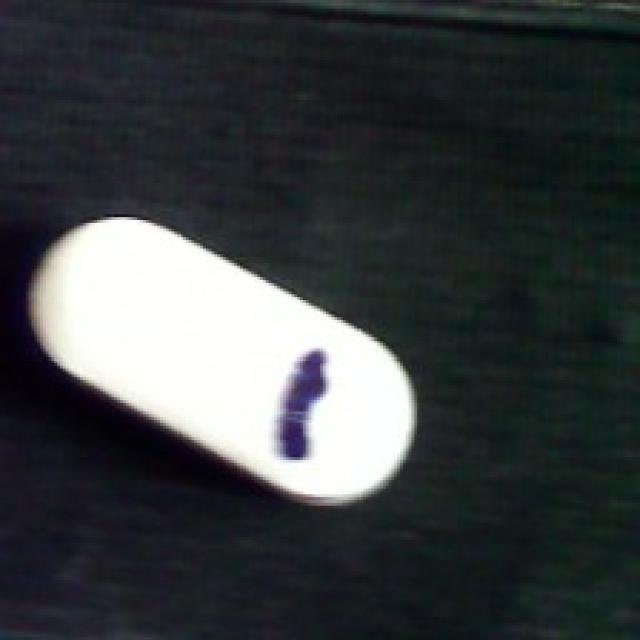defected: (11, 208, 426, 512)
